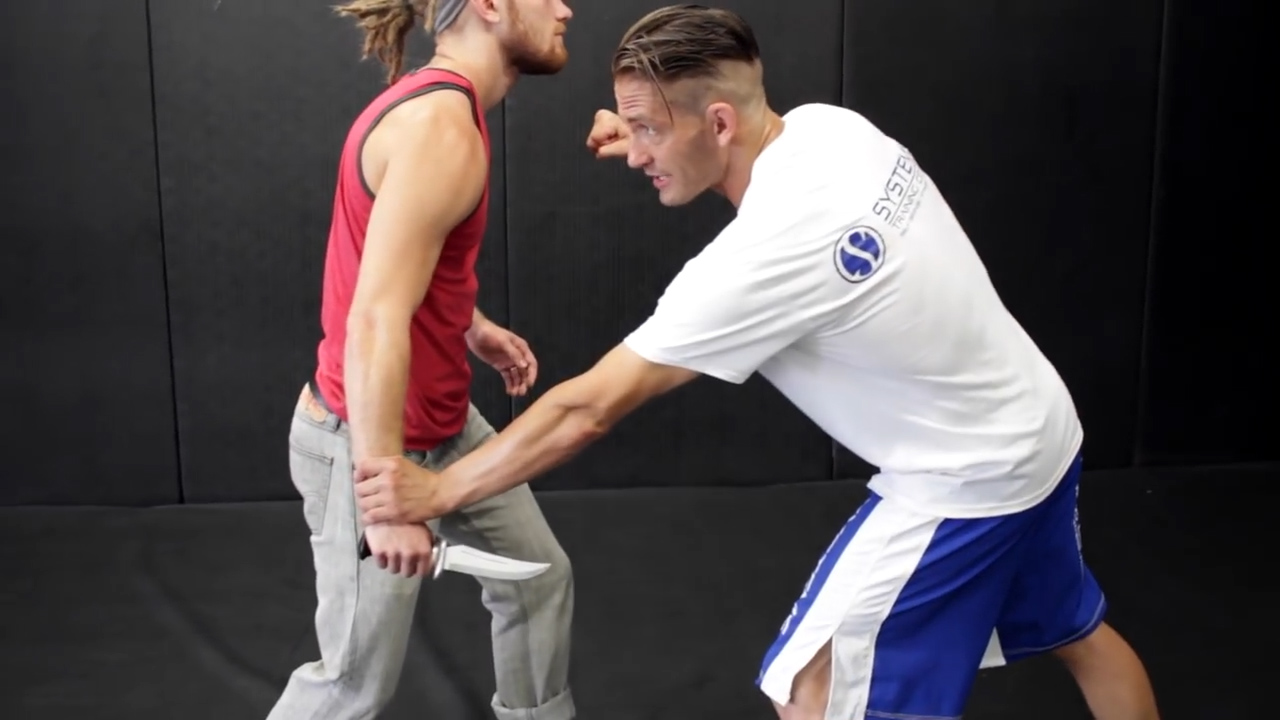knife: (344, 520, 559, 591)
